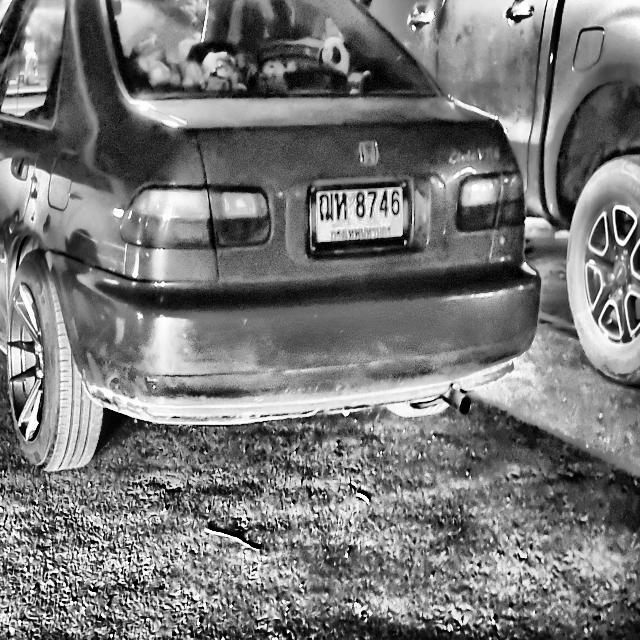license-plate: (303, 178, 415, 256)
